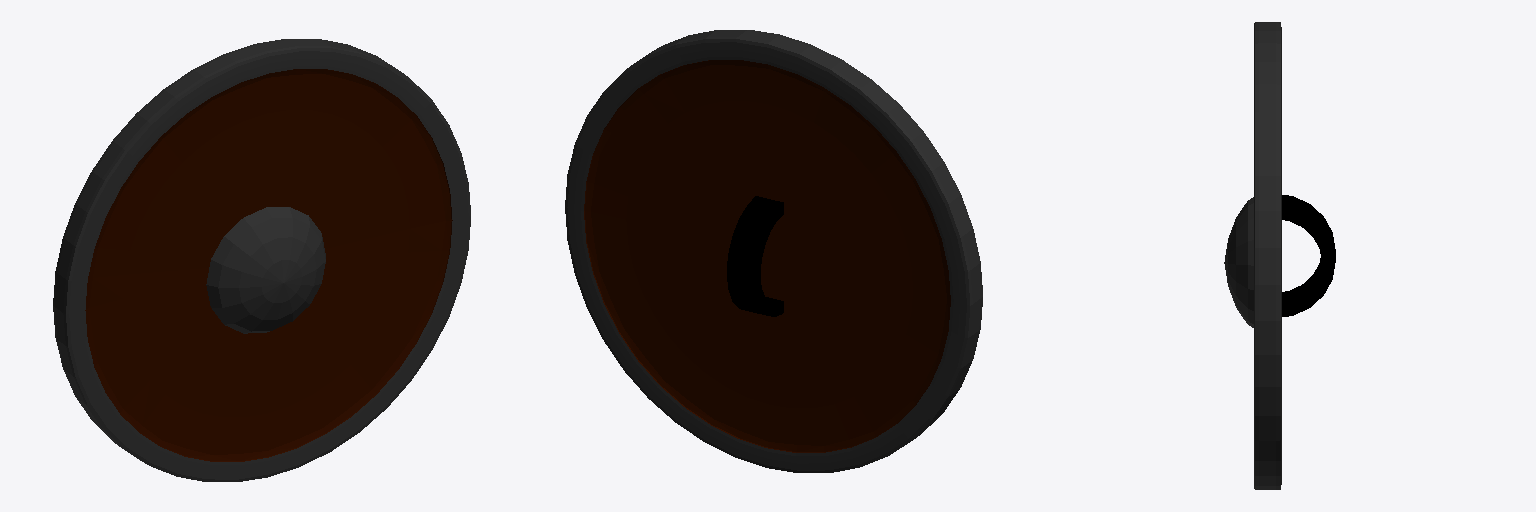
The model's file is Shield01.obj.
3 views of the same model, side by side, from view 1: azimuth 30°, elevation 25°; view 2: azimuth 150°, elevation 25°; view 3: azimuth 270°, elevation 25° (orthographic).
Visible parts, largest first — view 1: Shield01_Cylinder; view 2: Shield01_Cylinder; view 3: Shield01_Cylinder.
Part boxes in pixels (left/top/right/bottom): Shield01_Cylinder: left=53, top=39, right=470, bottom=481; Shield01_Cylinder: left=565, top=30, right=982, bottom=472; Shield01_Cylinder: left=1224, top=22, right=1335, bottom=489.
Size of the model in its own units: 5.41 by 5.41 by 1.28.